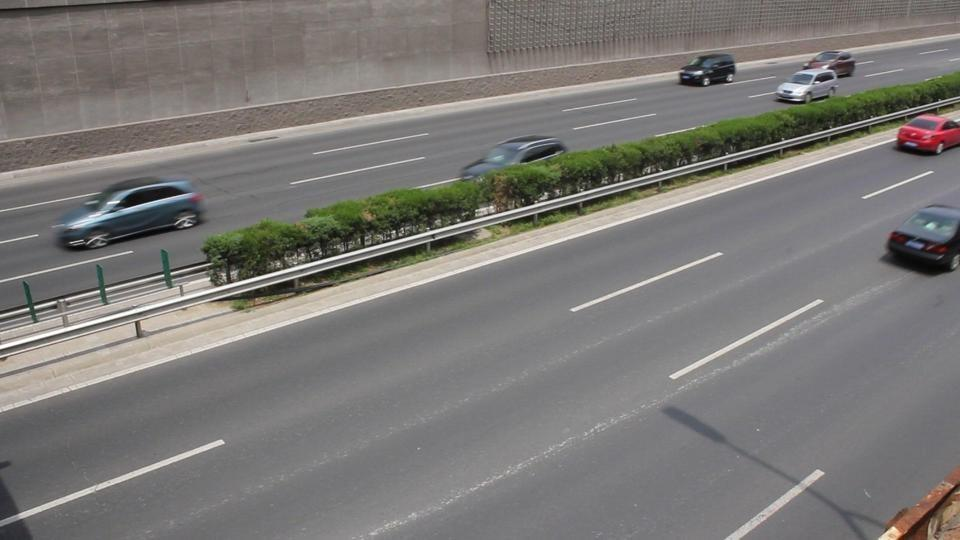car: (49, 178, 207, 250), (884, 204, 960, 272), (460, 135, 569, 179), (894, 113, 960, 155), (773, 68, 840, 104), (677, 52, 737, 87), (805, 50, 855, 77)
